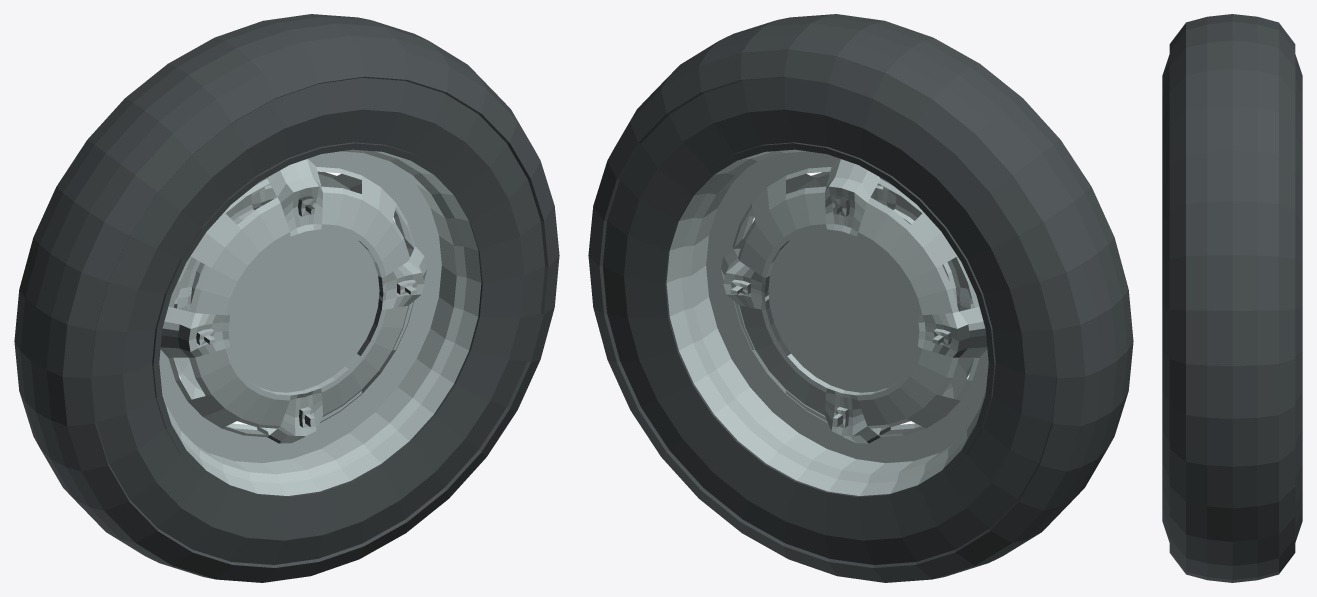
File: HN-Dio_stock_WheelR.fbx
3 views of the same model, side by side, from view 1: azimuth 30°, elevation 25°; view 2: azimuth 150°, elevation 25°; view 3: azimuth 270°, elevation 25° (orthographic). The views are drawn at different scales.
Visible parts, largest first — view 1: WheelR; view 2: WheelR; view 3: WheelR.
Part boxes in pixels (bbox=[...]): WheelR: bbox=[14, 14, 559, 582]; WheelR: bbox=[588, 14, 1133, 582]; WheelR: bbox=[1162, 14, 1302, 582].
Size of the model in its own units: 10.01 by 40.72 by 40.72.
